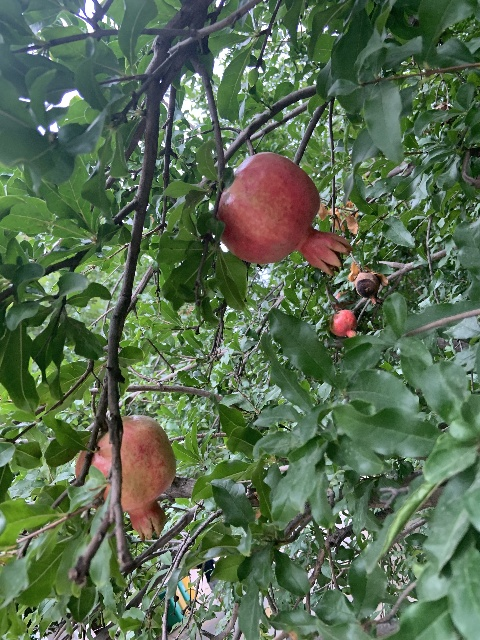ripe: (215, 151, 352, 276), (75, 415, 175, 541), (329, 309, 357, 337)
